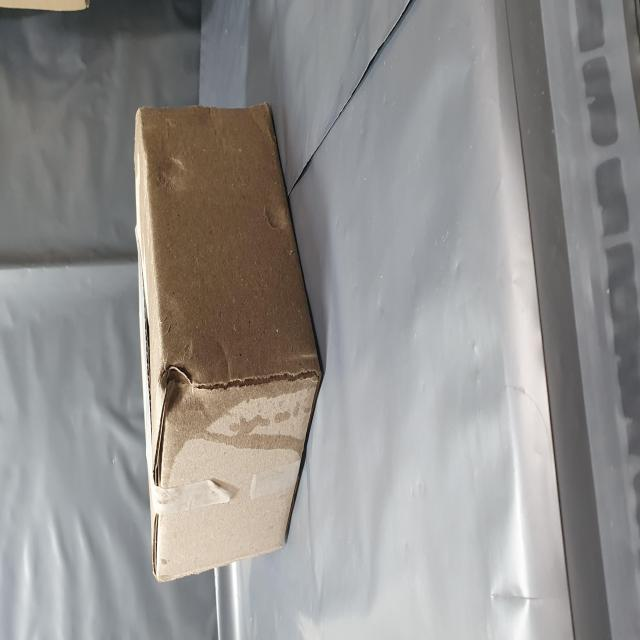wet: (83, 253, 296, 557)
